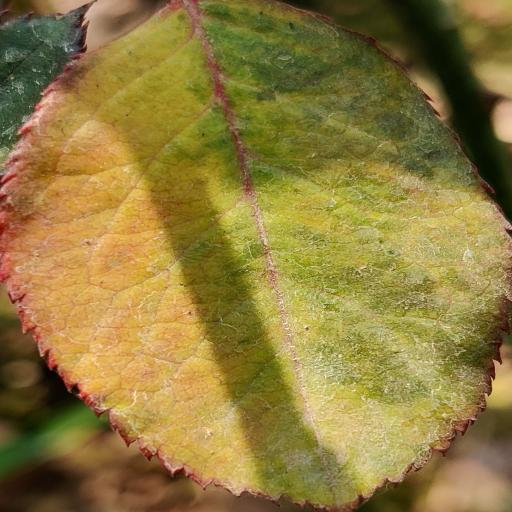red_mite: (0, 0, 510, 512)
